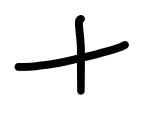plus: (13, 17, 129, 92)
